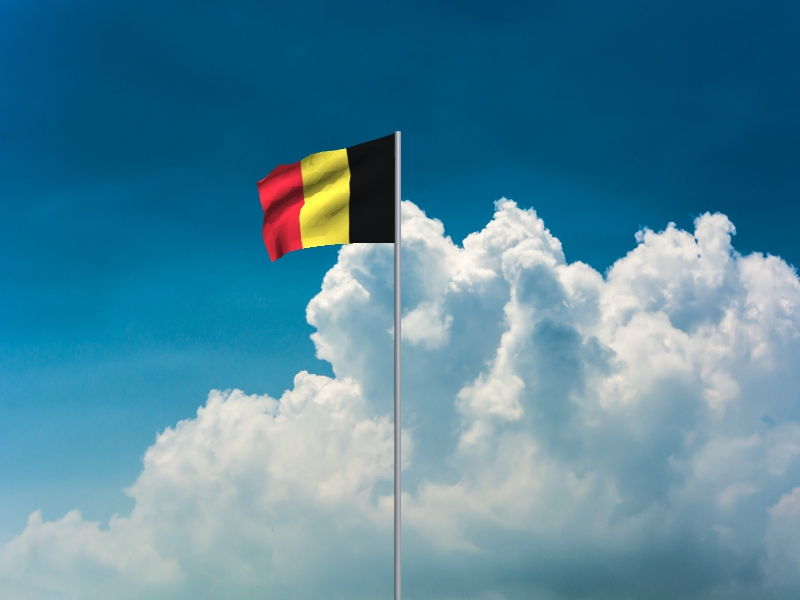be: (255, 135, 396, 264)
